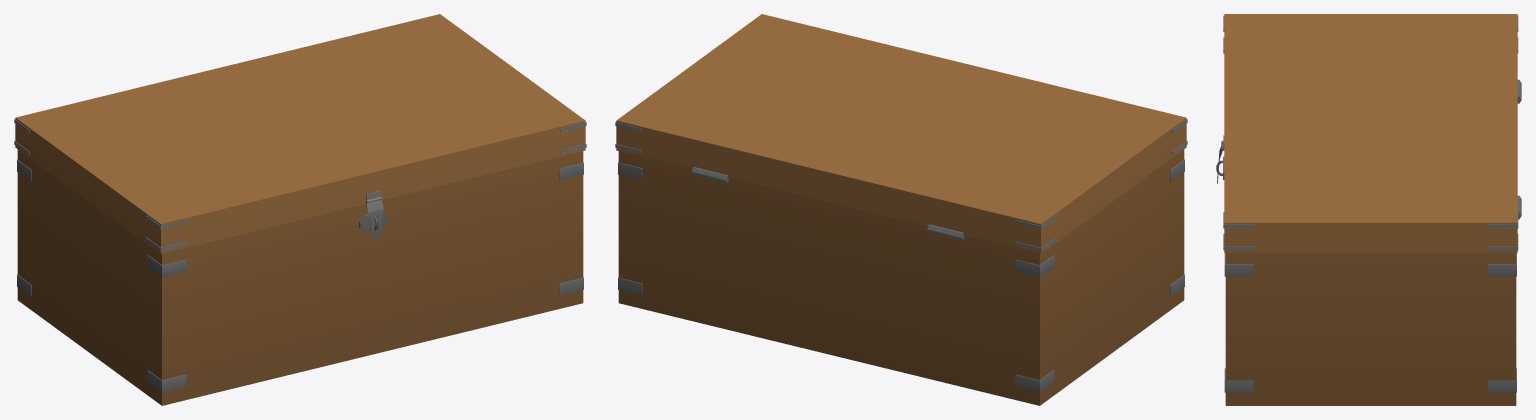
File: Prop_Wooden_Chest_Open_01.obj
3 renders of one model, left to right at view 1: azimuth 30°, elevation 25°; view 2: azimuth 150°, elevation 25°; view 3: azimuth 270°, elevation 25°, orthographic.
Visible parts, largest first — view 1: Prop_Wooden_Chest_Open_01, Prop_Wooden_Chest_Open_Top_01; view 2: Prop_Wooden_Chest_Open_01, Prop_Wooden_Chest_Open_Top_01; view 3: Prop_Wooden_Chest_Open_Top_01, Prop_Wooden_Chest_Open_01.
Boxes of the visible parts, box(x1,y1,x2,y2) form: Prop_Wooden_Chest_Open_01: box(17, 149, 583, 405); Prop_Wooden_Chest_Open_Top_01: box(14, 14, 586, 253); Prop_Wooden_Chest_Open_01: box(618, 149, 1184, 405); Prop_Wooden_Chest_Open_Top_01: box(615, 14, 1187, 253); Prop_Wooden_Chest_Open_Top_01: box(1217, 14, 1518, 252); Prop_Wooden_Chest_Open_01: box(1216, 79, 1521, 405).
Size of the model in its own units: 1.13 by 0.4649 by 0.6987.
1 material, 1 textured.
